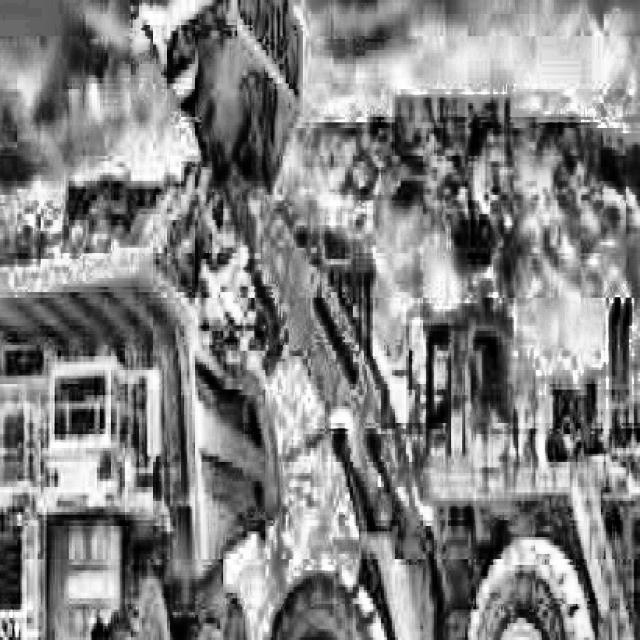buldozerpayloadergrader: (122, 0, 640, 640)
dump_truck: (0, 211, 261, 640)
